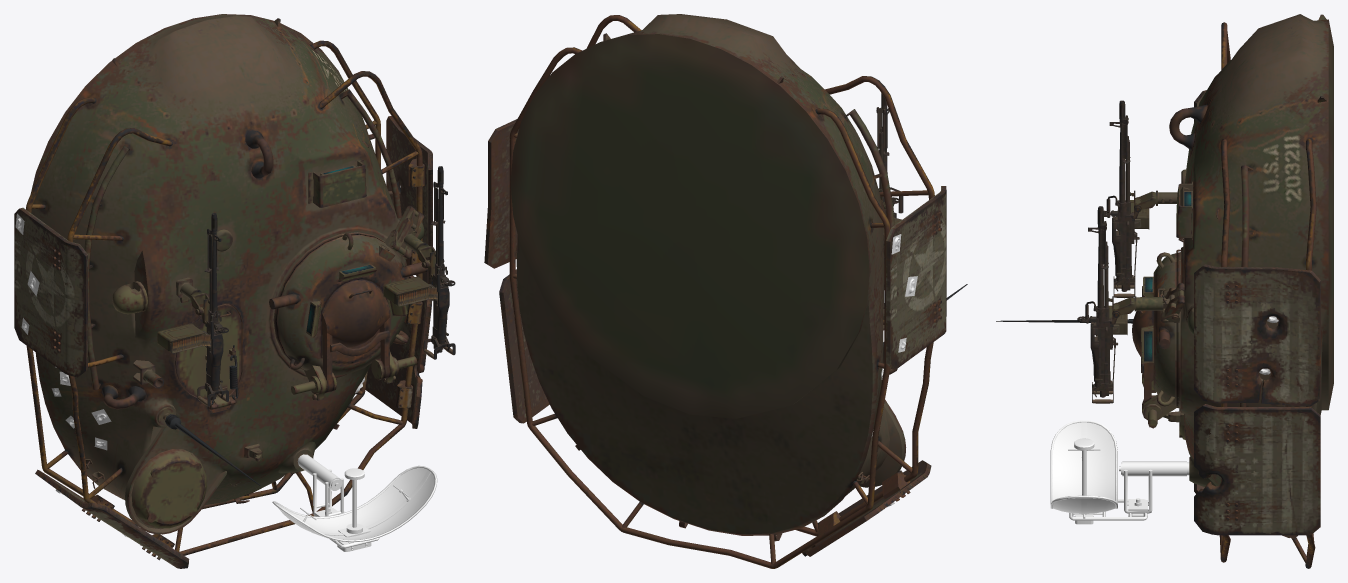
Rendered from Turret_03.glb.
The picture shows the model from 3 angles, left to right: view 1: azimuth 30°, elevation 25°; view 2: azimuth 150°, elevation 25°; view 3: azimuth 270°, elevation 25°; orthographic projection. The views are drawn at different scales.
Parts seen in each view (by area): view 1: set_0_group_0, set_0_group_2, set_0_group_1, set_0_group_3; view 2: set_0_group_0, set_0_group_2; view 3: set_0_group_0, set_0_group_2, set_0_group_1.
Boxes of the visible parts, bbox=[...] form: set_0_group_0: bbox=[30, 14, 427, 534]; set_0_group_2: bbox=[14, 40, 455, 568]; set_0_group_1: bbox=[272, 454, 437, 551]; set_0_group_3: bbox=[15, 213, 364, 545]; set_0_group_0: bbox=[510, 14, 967, 541]; set_0_group_2: bbox=[484, 15, 946, 568]; set_0_group_0: bbox=[996, 14, 1333, 538]; set_0_group_2: bbox=[1077, 22, 1320, 568]; set_0_group_1: bbox=[1050, 420, 1189, 524].
Size of the model in its own units: 2.84 by 3.55 by 2.13.
Materials: 4 (2 with a texture image).
